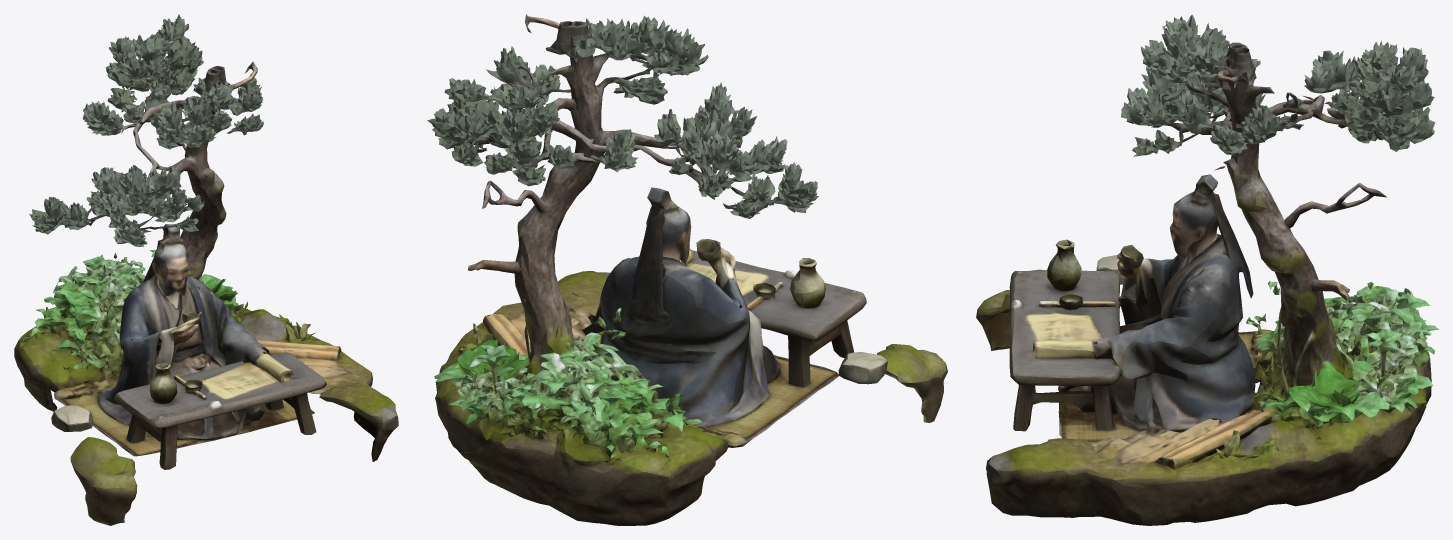
Rendered from poet_table_diorama.glb.
The picture shows the model from 3 angles, left to right: view 1: azimuth 30°, elevation 25°; view 2: azimuth 150°, elevation 25°; view 3: azimuth 270°, elevation 25°; orthographic projection. The views are drawn at different scales.
Visible parts, largest first — view 1: geometry_0; view 2: geometry_0; view 3: geometry_0.
Part boxes in pixels (bbox=[...]): geometry_0: bbox=[14, 14, 398, 525]; geometry_0: bbox=[427, 14, 947, 525]; geometry_0: bbox=[976, 14, 1438, 525].
Bounding box in the file's own units: 0.35 × 0.3517 × 0.3472.
1 material, 1 textured.
